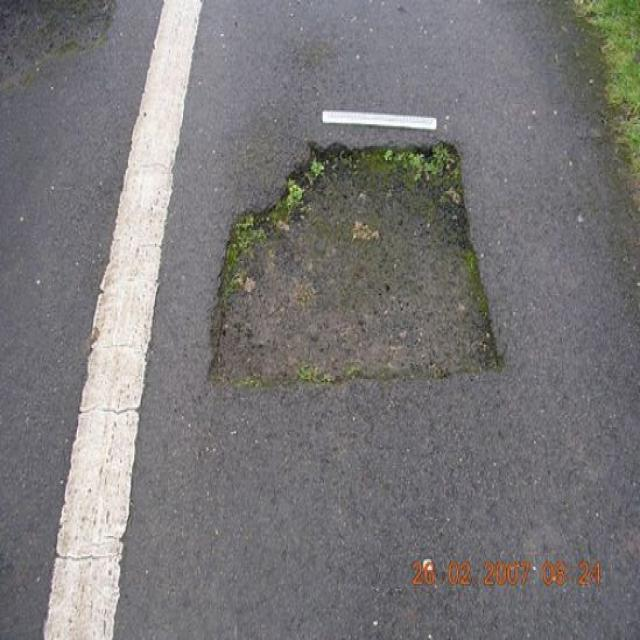pothole: (197, 127, 507, 396)
